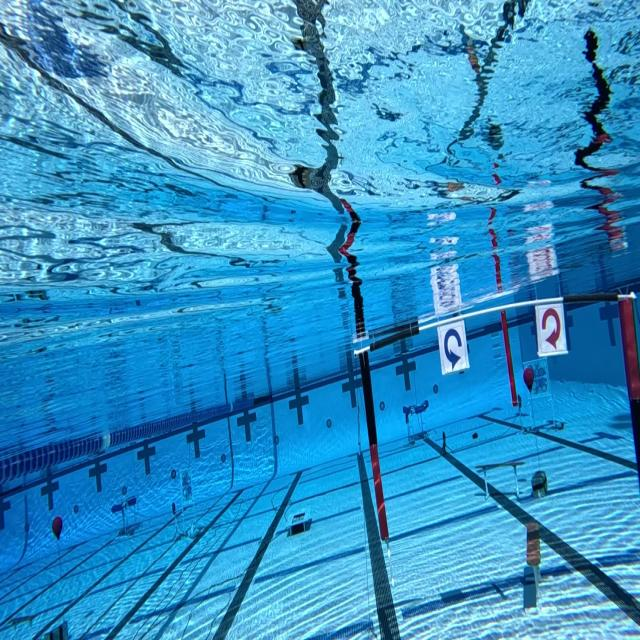blue_side: (438, 316, 470, 377)
red_side: (534, 299, 568, 358)
